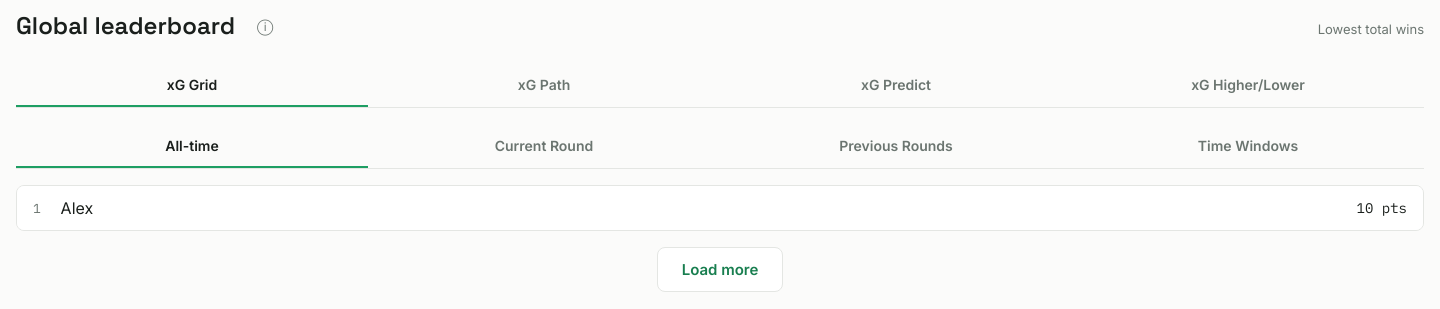
Test: AllTimeLeaderboard › REQ-607: shows a "Load more" button when hasMore is true, and clicking it fetches the next page via the previous nextCursor and appends the new rows below the e
Check: the text "Alex" is shown, box [61,198,93,218]
Click the button "Load more" at [720, 270], box [657,247,783,292]
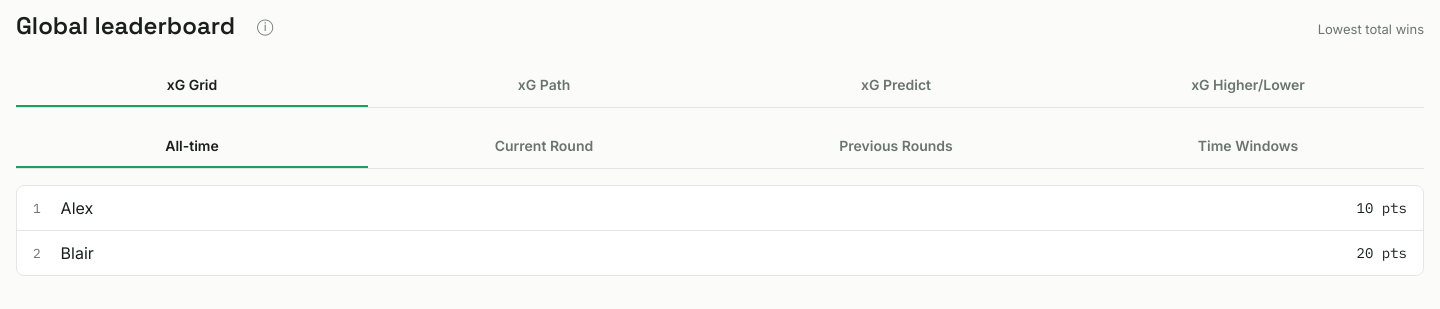
Check: the text "Blair" is shown, box [61,243,94,263]
Check: the number of list items is 2, box [17,186,1423,231]; [17,231,1423,275]
Check: the list item "2 Blair 20 pts" is shown, box [17,231,1423,275]
